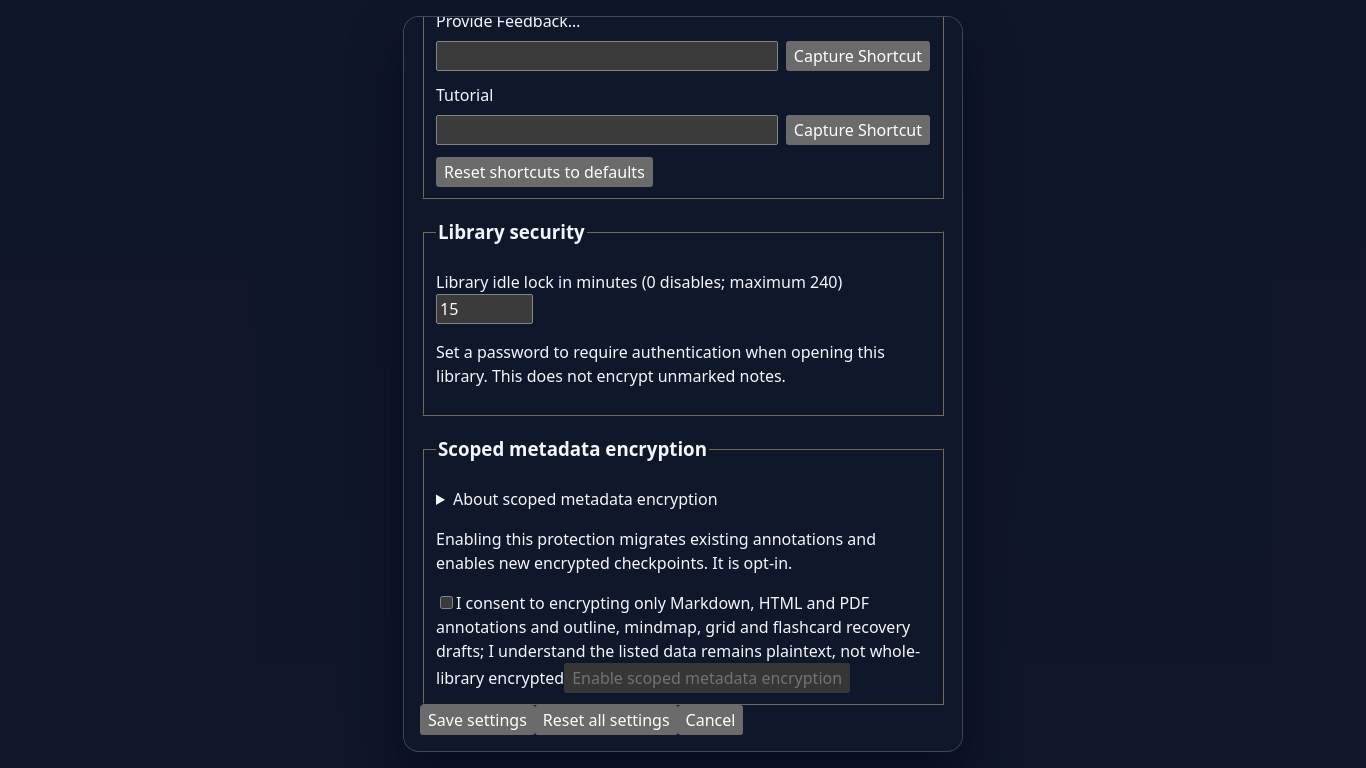
Test: scoped metadata encryption consent › keeps controls available for retry and does not report success after persistence fails
(page scrolled)
Expected: the button "Enable scoped metadata encryption" is shown, [564,663,850,693]
What coordinates should you click on to do the following:
click the checkbox labelled "I consent to encrypting only Markdown, HTML and PDF annotations"
I would click on:
 (446, 603)
Its box is [440,596,453,609].
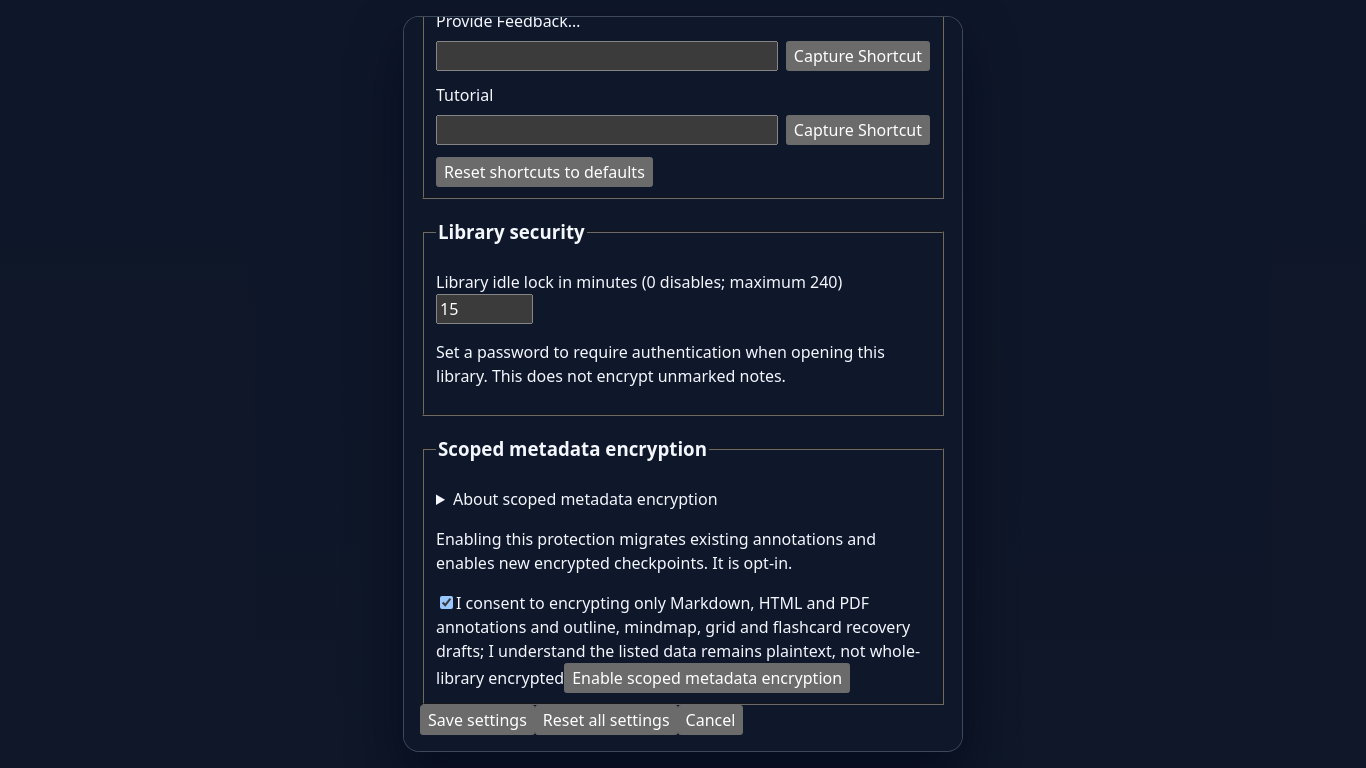
What coordinates should you click on to do the following:
click the button "Enable scoped metadata encryption"
I would click on:
 (707, 678)
Its box is [564,663,850,693].
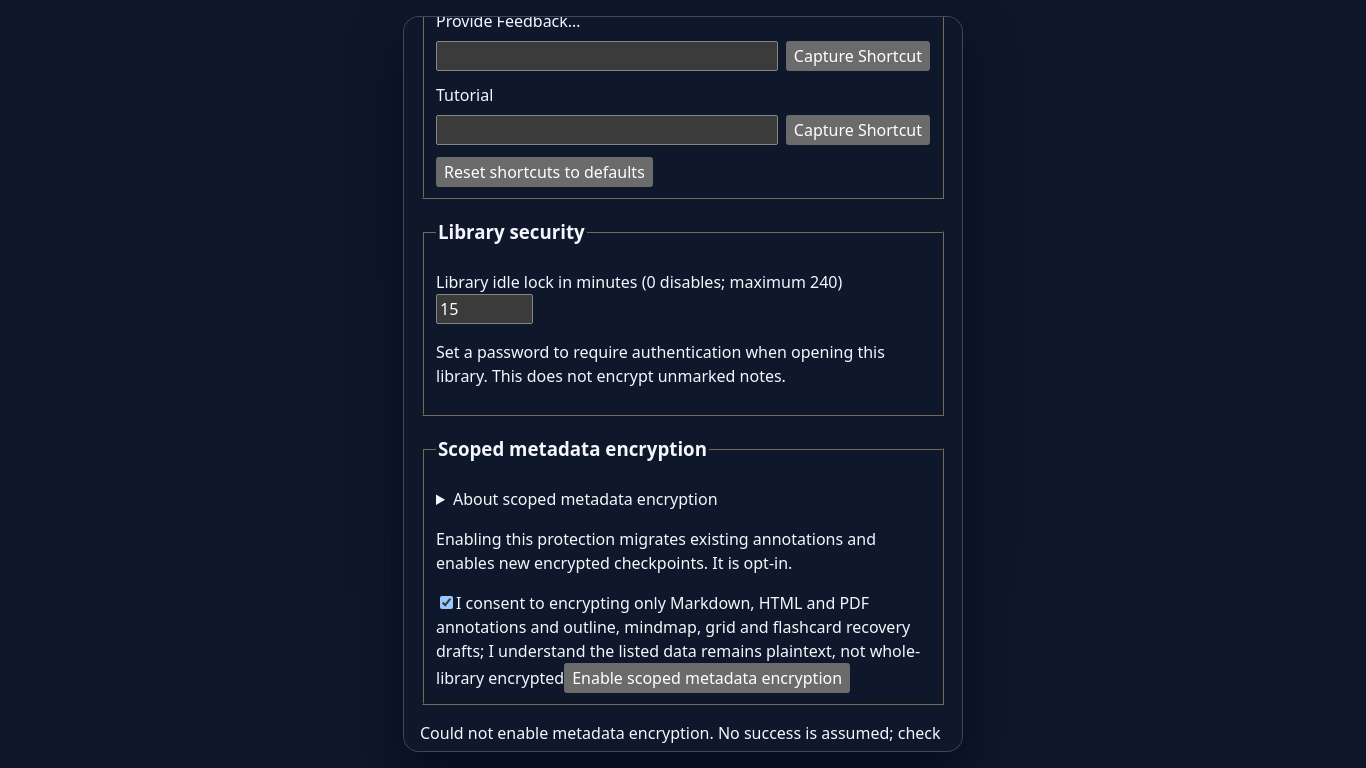
Expected: the button "Enable scoped metadata encryption" is enabled, [564,663,850,693]
Expected: the message shows "Could not enable metadata encryption", [420,722,941,752]
